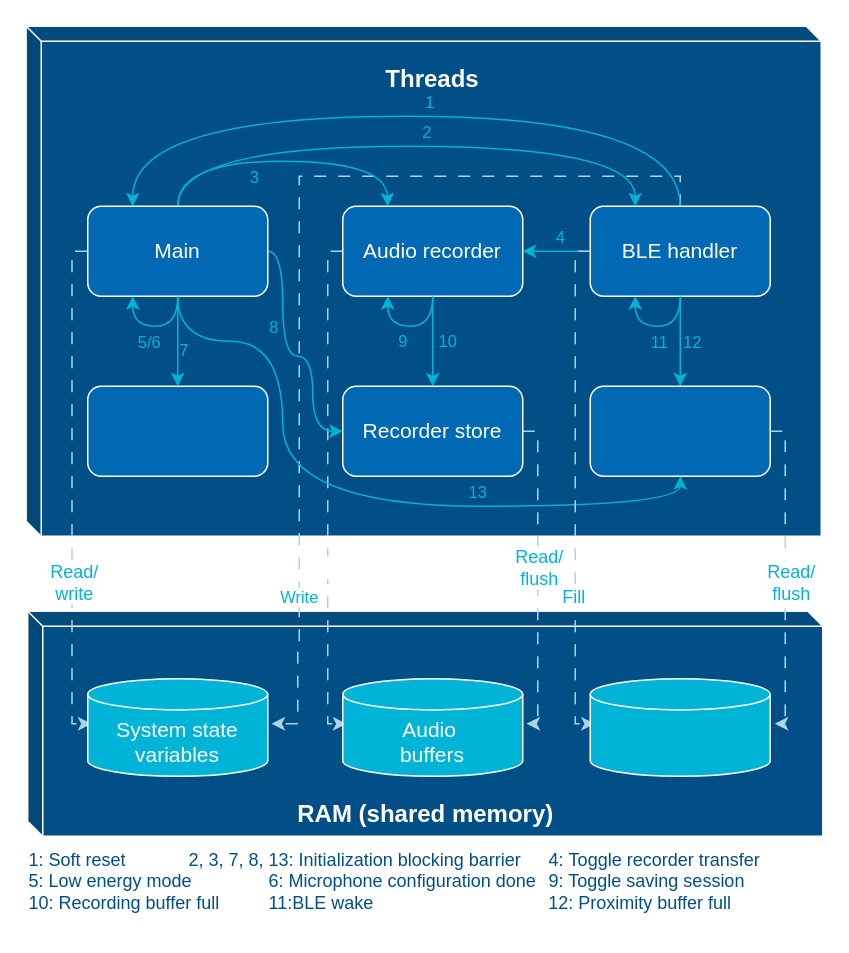
Some shapes in this 849 by 953 pixel diagram are drawn without their labels. The shapes that lost their labels are listed below. From the top down, each one's centre as x and y in pixels, then its label:
At point 177,430: "FATFS mount".
At point 679,430: "Proximity store".
At point 679,726: "Proximity detection buffers".
